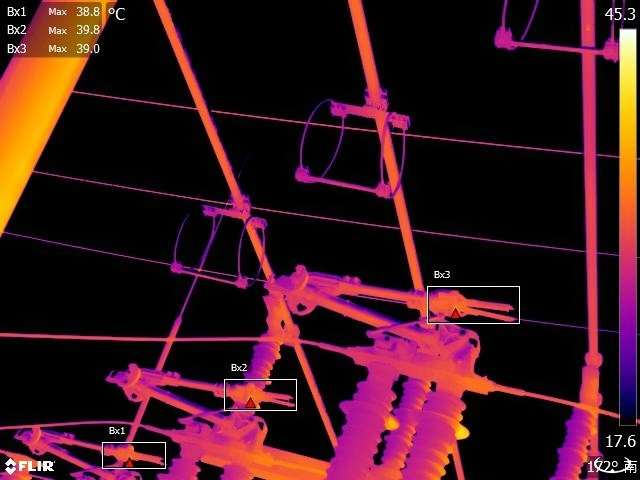post insulator: (319, 384, 403, 480), (401, 386, 479, 480), (377, 374, 434, 466), (550, 403, 604, 480), (236, 327, 289, 389), (157, 446, 204, 480)
switch: (262, 240, 518, 361), (98, 339, 293, 453), (14, 415, 160, 480)
